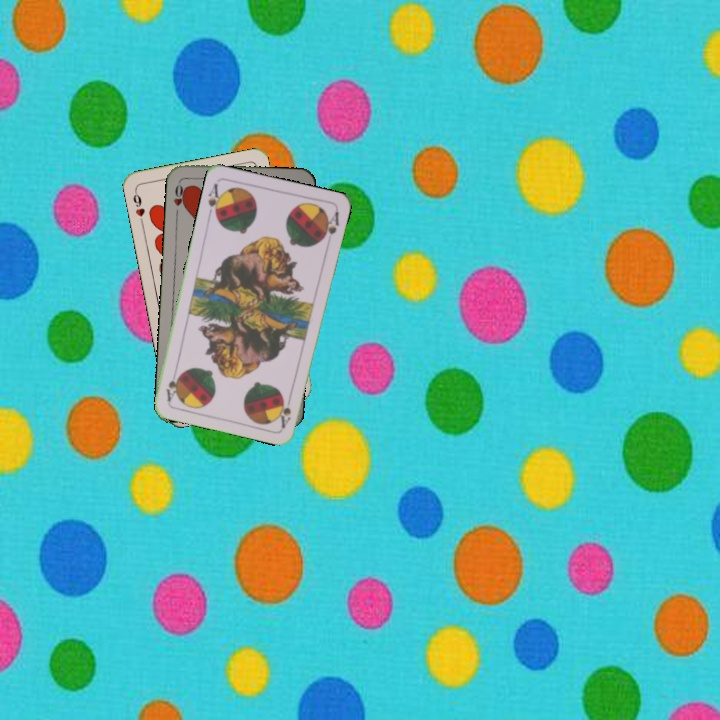H9: (129, 186, 147, 226)
HO: (169, 177, 189, 218)
SA: (204, 179, 225, 220), (277, 390, 294, 430)
